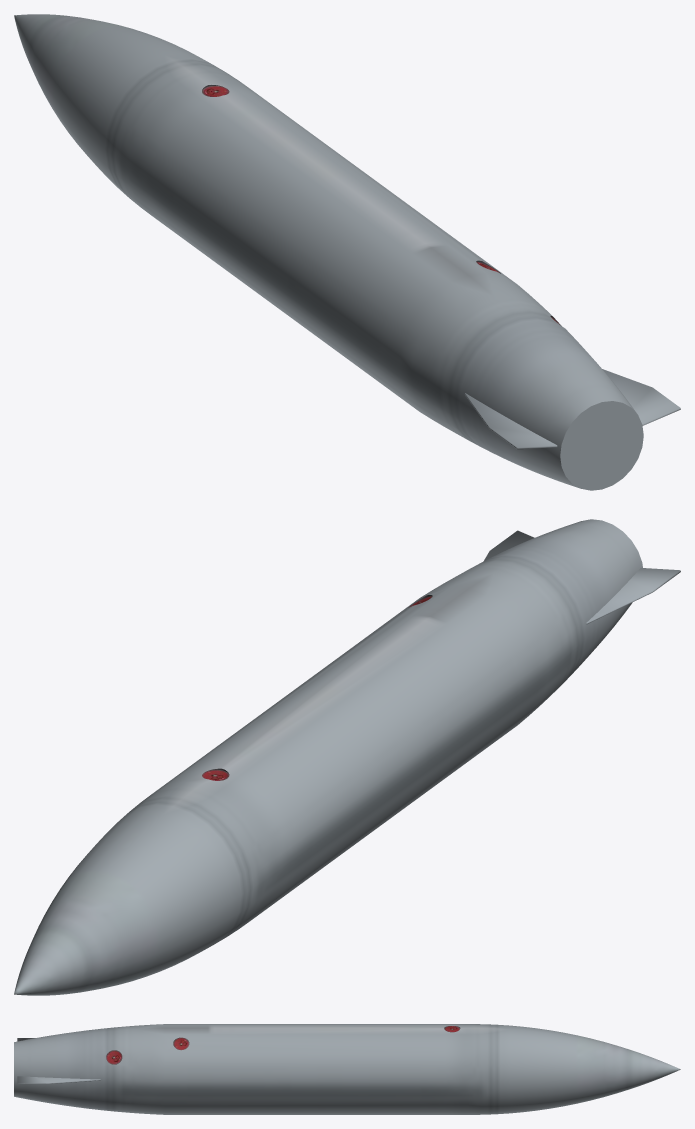
The model's file is f16ftk600.glb.
3 views of the same model, one above another, from view 1: azimuth 30°, elevation 25°; view 2: azimuth 150°, elevation 25°; view 3: azimuth 270°, elevation 25° (orthographic). The views are drawn at different scales.
Parts seen in each view (by area): view 1: f16ftk600_body; view 2: f16ftk600_body; view 3: f16ftk600_body.
Boxes of the visible parts, x1=… form: f16ftk600_body: x1=14, y1=14, x2=680, y2=490; f16ftk600_body: x1=14, y1=519, x2=680, y2=995; f16ftk600_body: x1=14, y1=1024, x2=680, y2=1114.
Bounding box in the file's own units: 0.9735 × 0.828 × 6.06.
Materials: 1 (1 with a texture image).
